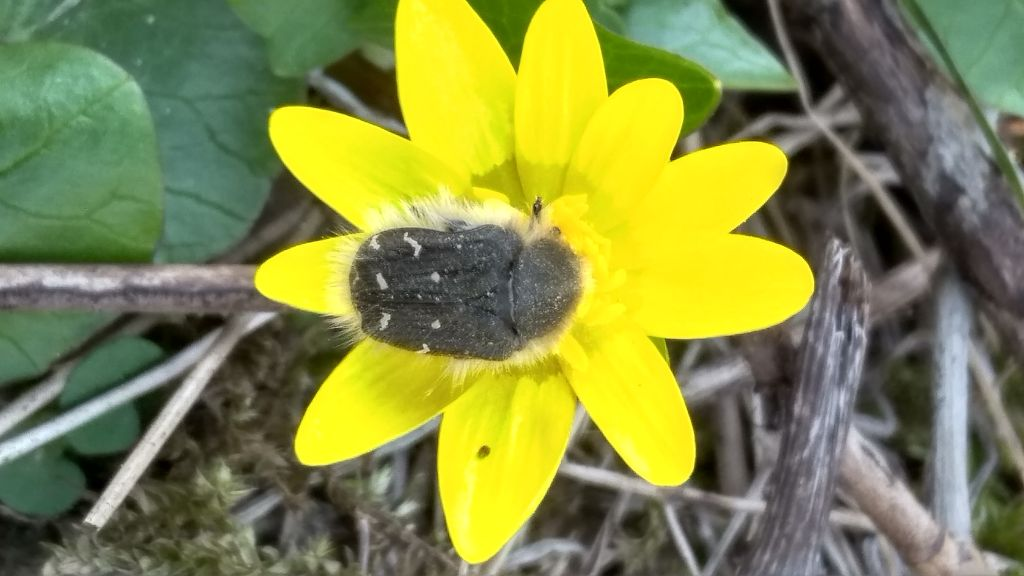Tropinota_hirta: (316, 186, 613, 382)
